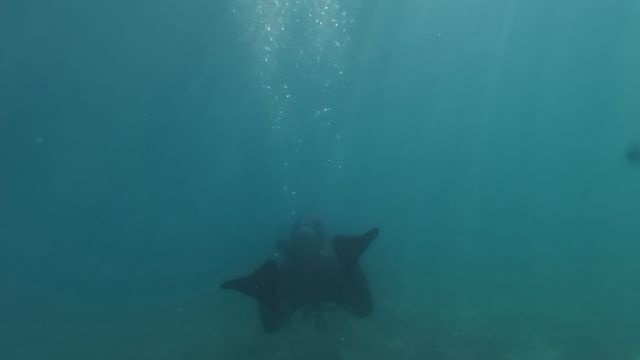Diver: (213, 209, 394, 342)
